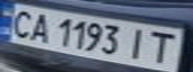1: (48, 16, 72, 47), (66, 18, 87, 51)
3: (100, 21, 127, 57)
9: (84, 19, 106, 53)
A: (24, 11, 54, 44)
C: (3, 7, 39, 39)
I: (121, 25, 154, 61)
T: (142, 28, 184, 64)
